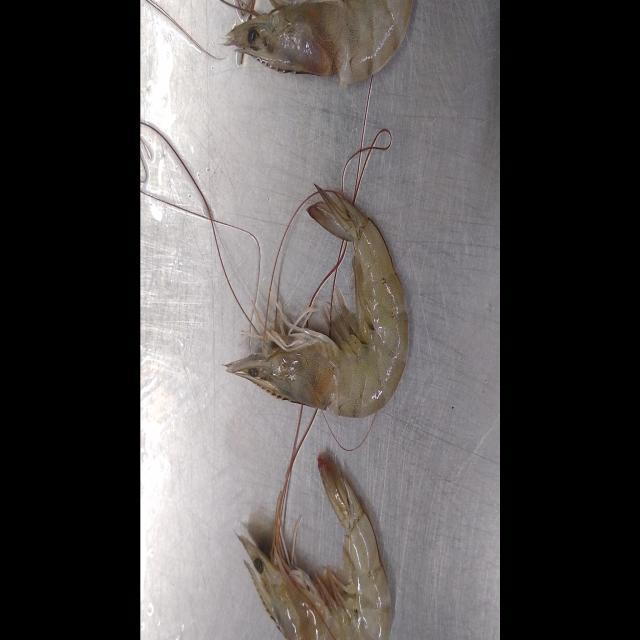shrimp: (226, 187, 408, 418), (239, 453, 391, 640), (225, 0, 411, 87)
